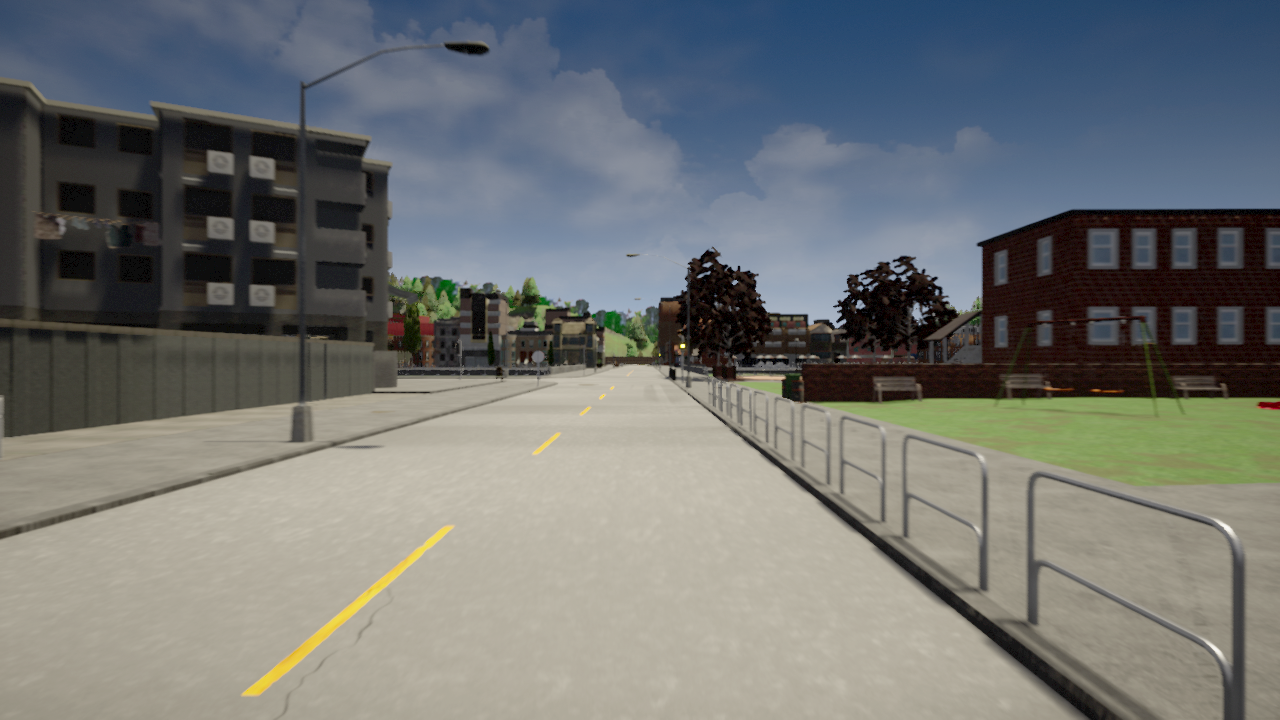yellow: (679, 339, 686, 355)
